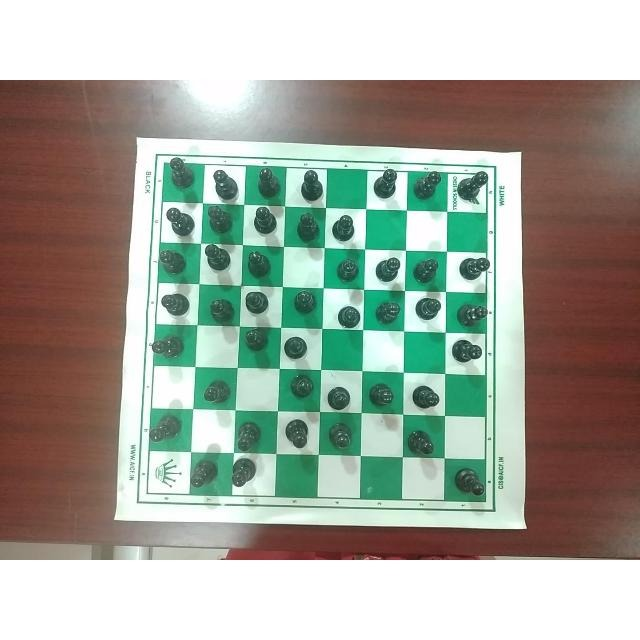black-pawn: (453, 164, 489, 206), (451, 465, 489, 499), (410, 165, 443, 203), (452, 253, 491, 285), (406, 378, 442, 412), (448, 334, 486, 365), (204, 204, 236, 240), (248, 204, 280, 240), (365, 377, 397, 413), (451, 298, 489, 328), (190, 456, 220, 494), (148, 413, 181, 447), (241, 288, 273, 323), (198, 377, 233, 409), (252, 166, 283, 202), (204, 243, 234, 280), (209, 164, 238, 202), (368, 167, 398, 203), (161, 204, 194, 236), (409, 255, 442, 287), (410, 294, 443, 326), (281, 417, 313, 450), (244, 247, 275, 281), (150, 332, 187, 360), (288, 210, 320, 242), (371, 253, 403, 285), (372, 296, 404, 328), (325, 380, 357, 412), (160, 288, 191, 321), (325, 419, 356, 452), (281, 330, 311, 364), (166, 154, 195, 189), (231, 457, 259, 493), (157, 246, 188, 278), (204, 294, 235, 326), (298, 168, 325, 204), (288, 288, 319, 319), (406, 424, 437, 455), (329, 211, 357, 245), (237, 418, 263, 453), (241, 326, 270, 357), (334, 253, 362, 285), (286, 374, 314, 403), (333, 302, 361, 330)
